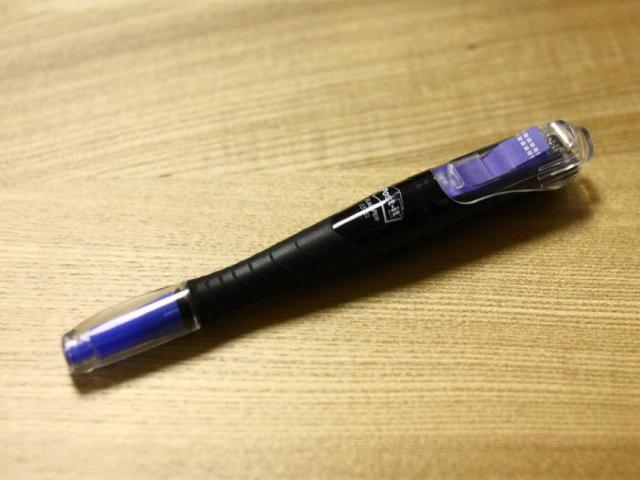PEN: (40, 98, 608, 394)
